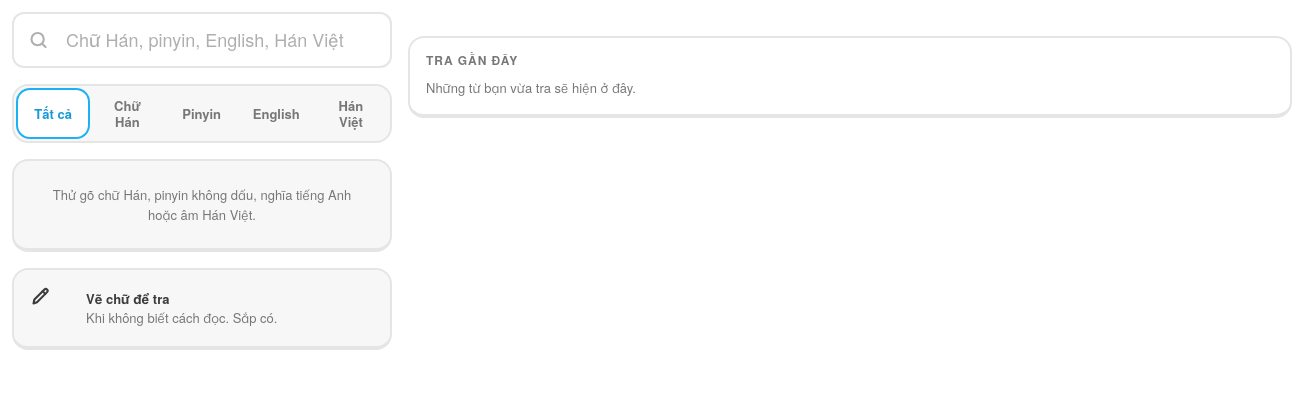
Test: SearchScreen: trạng thái › không có kết quả
Type "zzzz" into the search field.
click(202, 40); type("zzzz")  # box [12,12,392,68]
Wait 250 ms
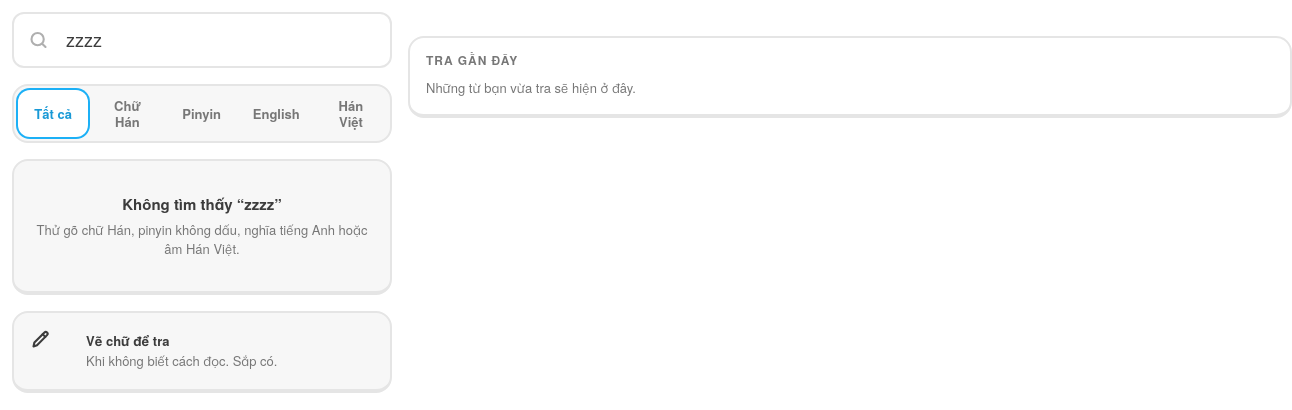
Now the text "Không tìm thấy “zzzz”" is shown, box [122,193,282,215]
